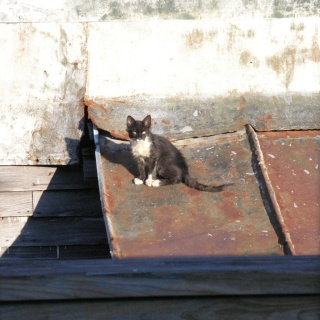Cat: (124, 113, 234, 192)
